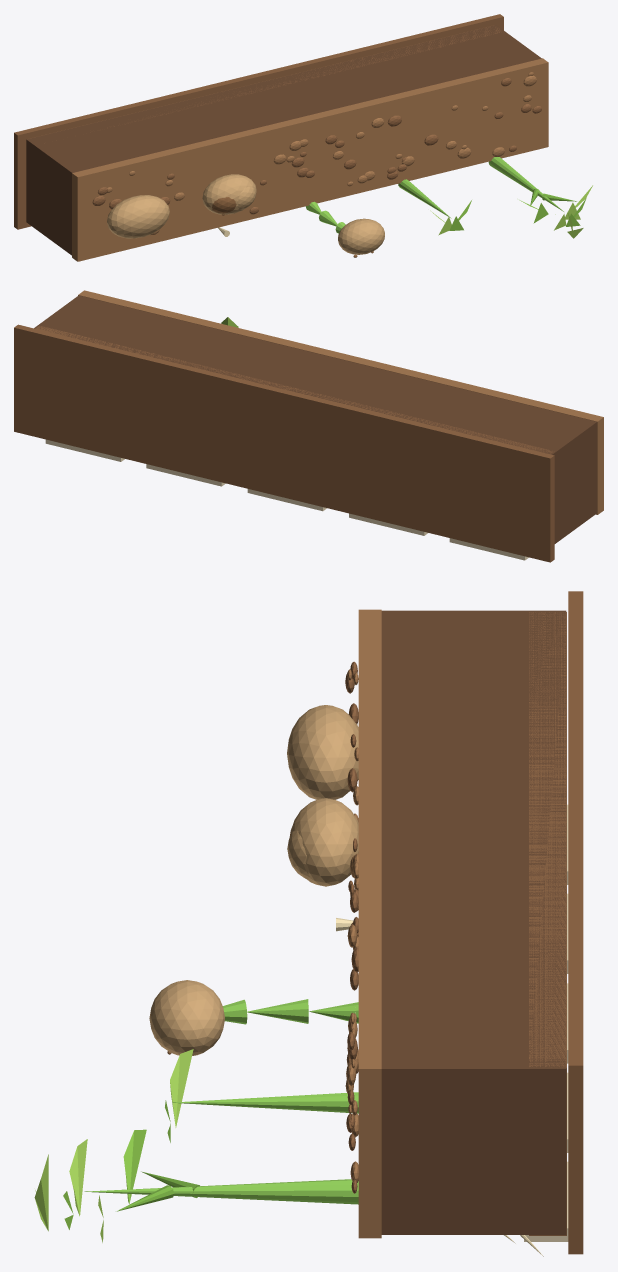
Rendered from germinacao_sementes_AR_REALISTA_V4.glb.
3 views of the same model, one above another, from view 1: azimuth 30°, elevation 25°; view 2: azimuth 150°, elevation 25°; view 3: azimuth 270°, elevation 25° (orthographic). The views are drawn at different scales.
Visible parts, largest first — view 1: world; view 2: world; view 3: world.
Boxes of the visible parts, x1=… form: world: x1=14, y1=14, x2=592, y2=261; world: x1=14, y1=290, x2=603, y2=562; world: x1=34, y1=591, x2=583, y2=1256.
Size of the model in its own units: 9 by 1.96 by 4.35.
